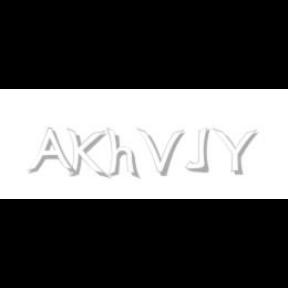A: (27, 128, 75, 176)
J: (184, 128, 210, 172)
K: (66, 128, 106, 180)
V: (137, 128, 185, 176)
Y: (212, 128, 258, 176)
h: (106, 128, 142, 180)
